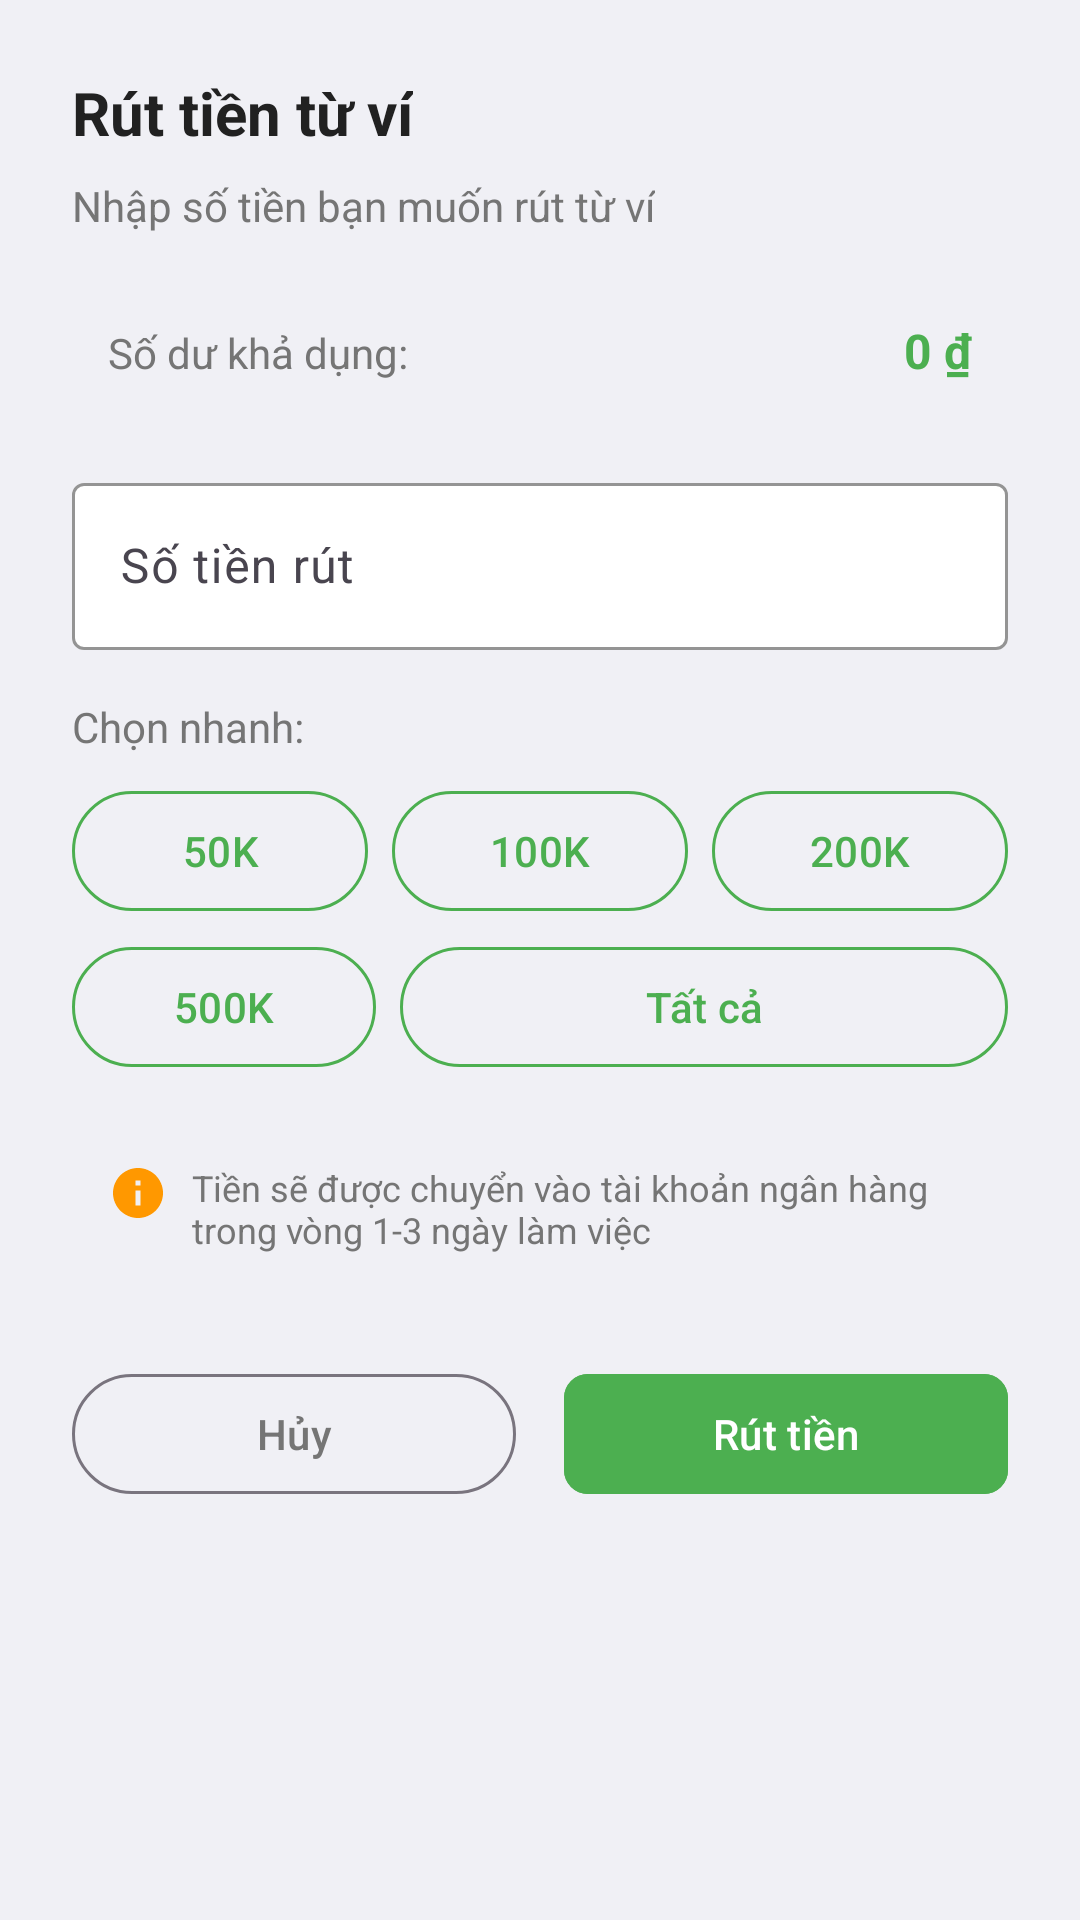

Screen size 1080px x 1920px. Icon name, then its center in pixels as (x=x, y=y):
info: (x=138, y=1193)
